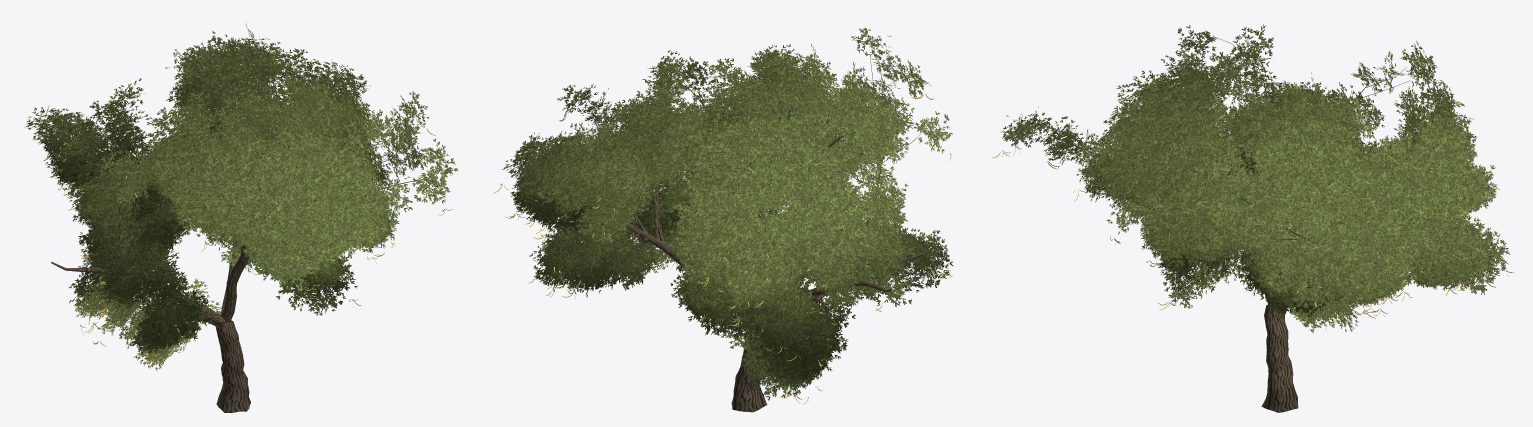
File: adult-a.lod0.glb
3 views of the same model, side by side, from view 1: azimuth 30°, elevation 25°; view 2: azimuth 150°, elevation 25°; view 3: azimuth 270°, elevation 25° (orthographic). The views are drawn at different scales.
Parts seen in each view (by area): view 1: foliage, bark, fruit; view 2: foliage, bark, fruit; view 3: foliage, bark, fruit.
Part boxes in pixels (x1,y1,x2,y2): foliage: (26, 23, 458, 370); bark: (51, 40, 426, 412); fruit: (51, 86, 452, 363); foliage: (502, 28, 953, 400); bark: (568, 58, 932, 412); fruit: (493, 57, 952, 404); foliage: (1002, 24, 1510, 333); bark: (1027, 36, 1451, 412); fruit: (992, 58, 1513, 324).
Bounding box in the file's own units: 9.33 × 7.5 × 10.99.
5 materials, 2 textured.
